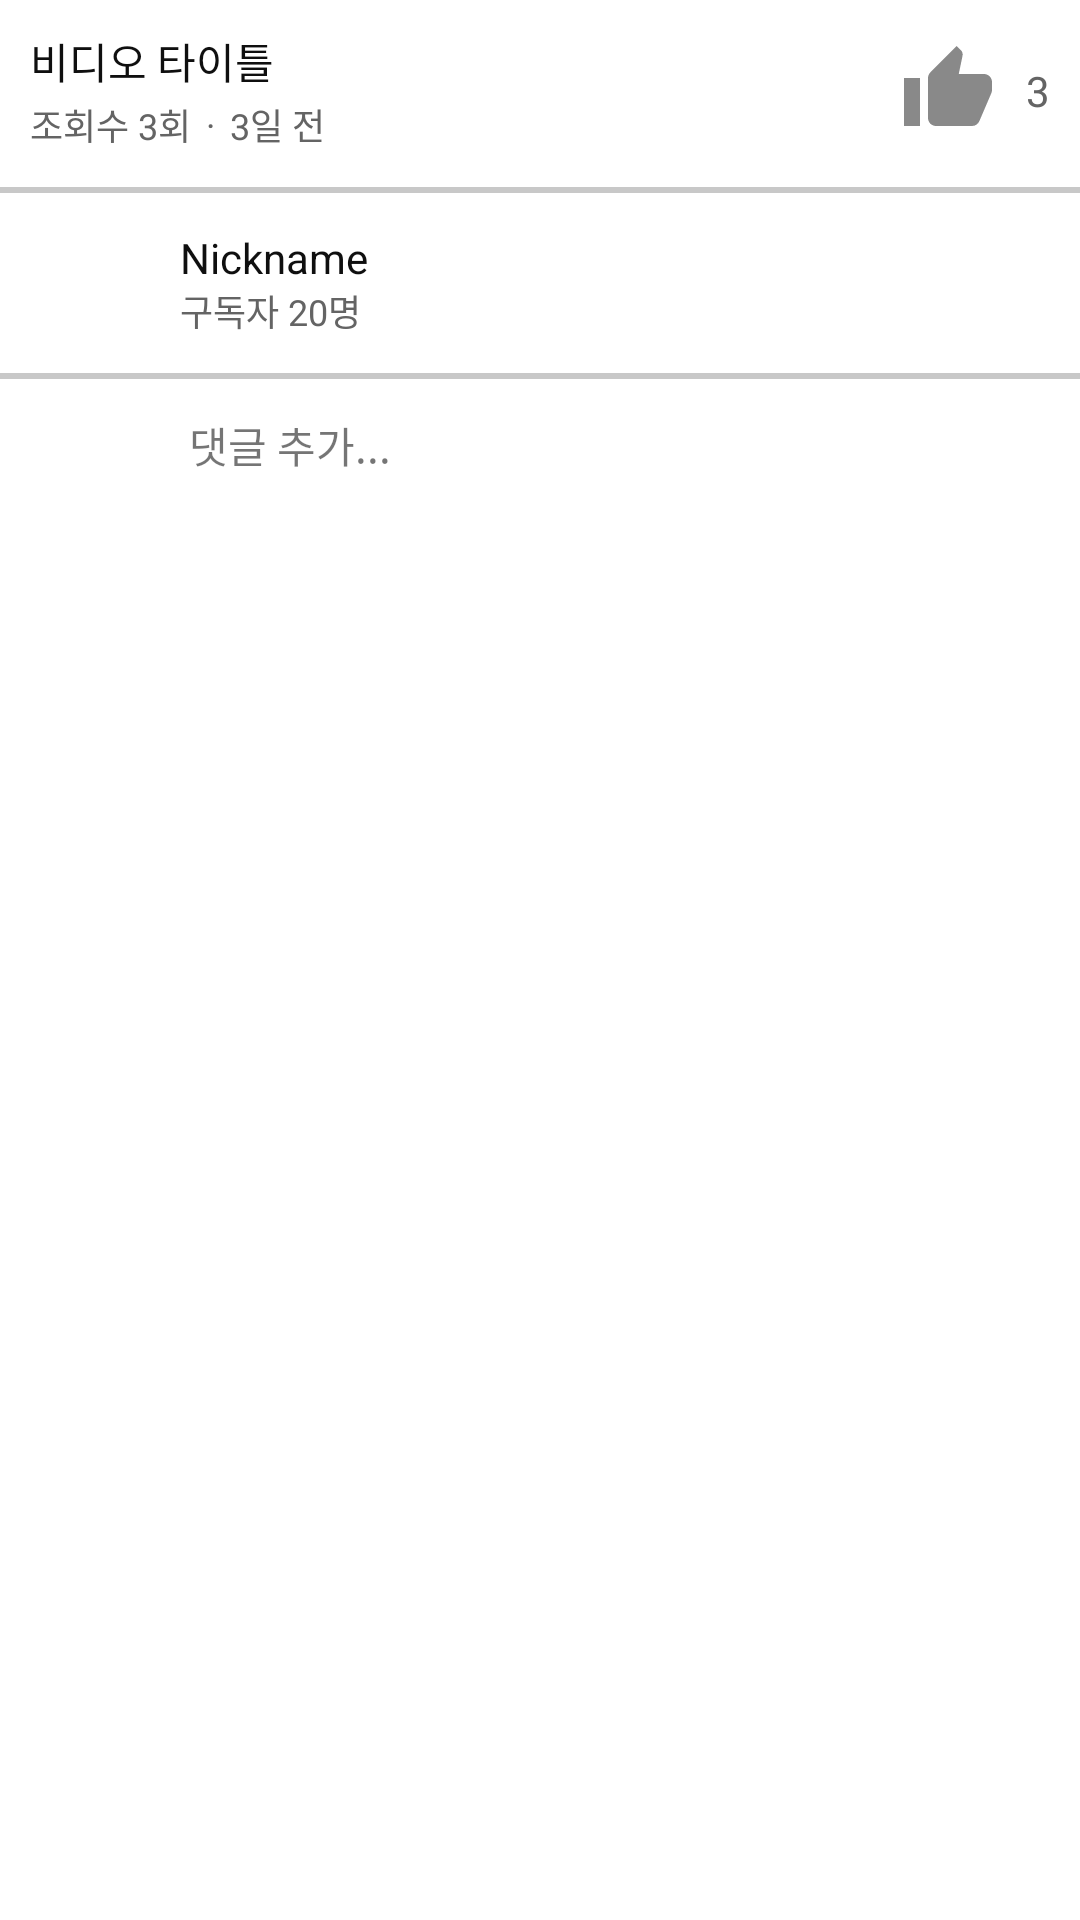

Icon bounding boxes for this 1080 x 1920 phone screenshot, format {"left": x1, "top": y1, "right": x2, "bottom": y2}:
thumb up check: {"left": 904, "top": 46, "right": 992, "bottom": 126}
